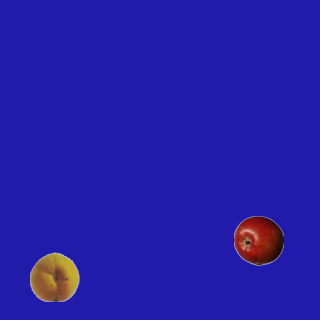Apple Braeburn: (233, 215, 283, 265)
Peach 2: (29, 251, 79, 301)
